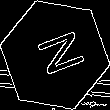N_W: (26, 28, 84, 82)
